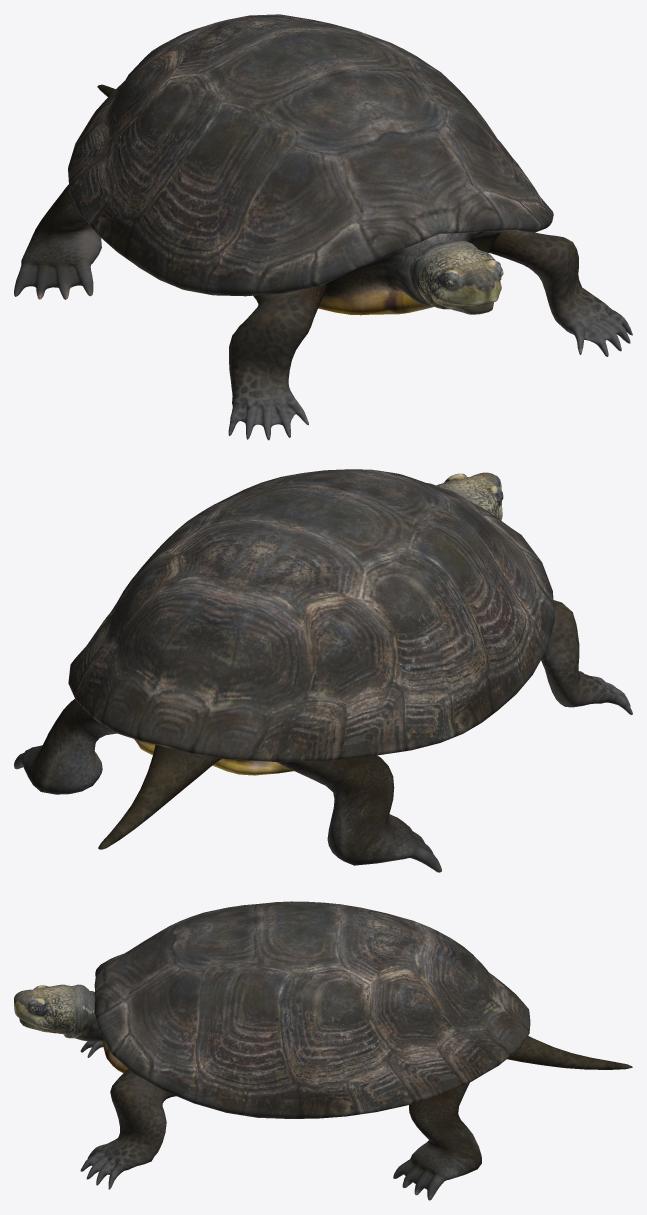
Rendered from TortugaNegra.glb.
The picture shows the model from 3 angles, top to bottom: view 1: azimuth 30°, elevation 25°; view 2: azimuth 150°, elevation 25°; view 3: azimuth 270°, elevation 25°; orthographic projection. The views are drawn at different scales.
Parts seen in each view (by area): view 1: TortugaNegra; view 2: TortugaNegra; view 3: TortugaNegra.
Boxes of the visible parts, box(x1,y1,x2,y2) form: TortugaNegra: box(14, 14, 632, 440); TortugaNegra: box(14, 469, 632, 872); TortugaNegra: box(14, 901, 632, 1200).
Bounding box in the file's own units: 2.05 × 1.18 × 3.26.
1 material, 1 textured.
